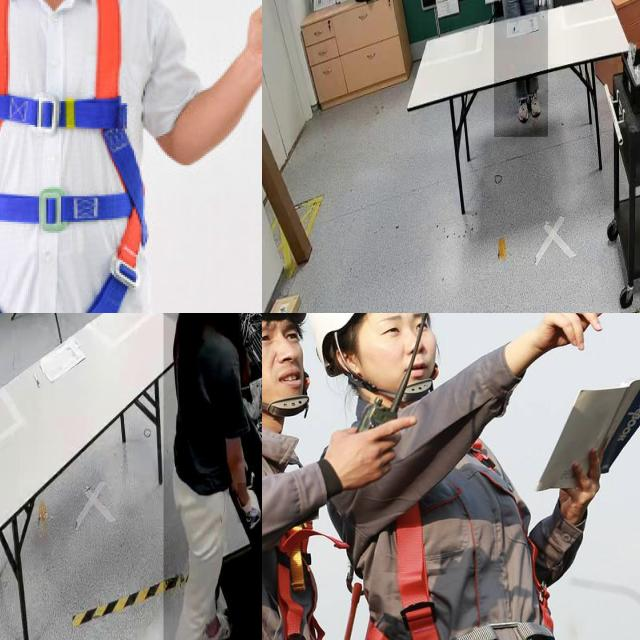Harness: (355, 377, 558, 640), (0, 0, 150, 313)
No_Glasses: (262, 320, 304, 348), (375, 313, 407, 345)
hand_glove: (237, 483, 262, 524)
person: (163, 313, 262, 640), (493, 0, 548, 138)
shoes: (513, 92, 529, 126), (528, 84, 542, 121)
